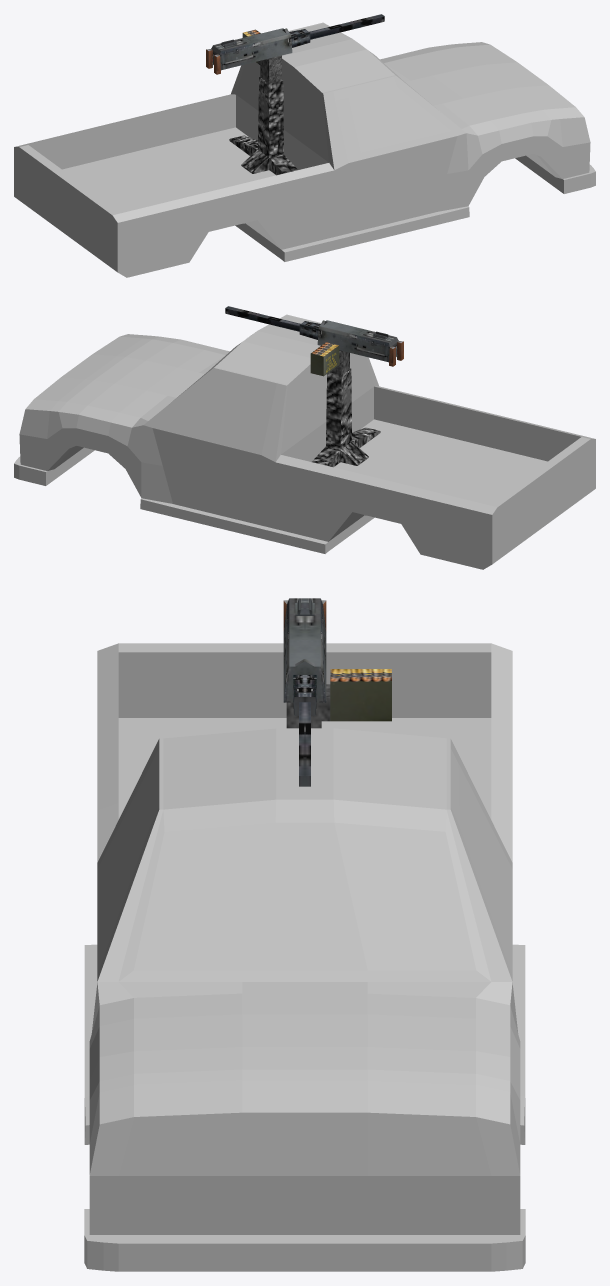
The model's file is M2browning.fbx.
3 renders of one model, top to bottom at view 1: azimuth 30°, elevation 25°; view 2: azimuth 150°, elevation 25°; view 3: azimuth 270°, elevation 25°, orthographic. The views are drawn at different scales.
Parts seen in each view (by area): view 1: Refrence, M2browning, BrowningStand, BrowningRotate; view 2: Refrence, M2browning, BrowningStand, BrowningRotate; view 3: Refrence, M2browning, BrowningRotate.
Boxes of the visible parts, x1=… form: Refrence: x1=14, y1=22, x2=595, y2=277; M2browning: x1=206, y1=14, x2=384, y2=74; BrowningStand: x1=229, y1=77, x2=297, y2=175; BrowningRotate: x1=242, y1=29, x2=281, y2=83; Refrence: x1=14, y1=314, x2=595, y2=569; M2browning: x1=225, y1=306, x2=403, y2=366; BrowningStand: x1=312, y1=368, x2=380, y2=467; BrowningRotate: x1=310, y1=342, x2=349, y2=376; Refrence: x1=84, y1=643, x2=525, y2=1271; M2browning: x1=283, y1=598, x2=326, y2=786; BrowningRotate: x1=286, y1=669, x2=391, y2=728.
Bounding box in the file's own units: 967 × 348 × 386.
